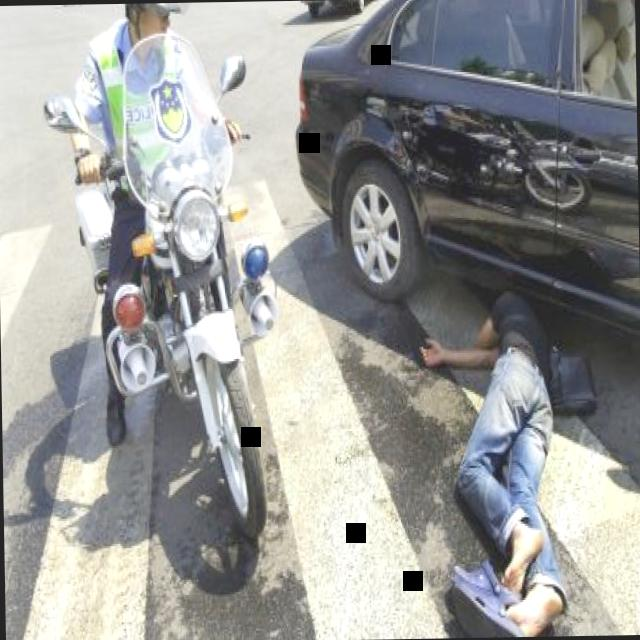Fall-Detected: (406, 254, 586, 638)
